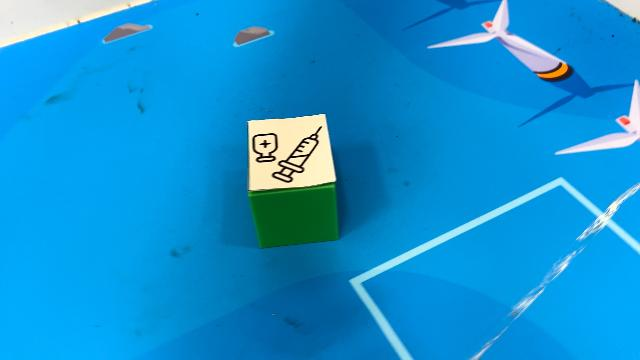syringe: (248, 113, 340, 247)
